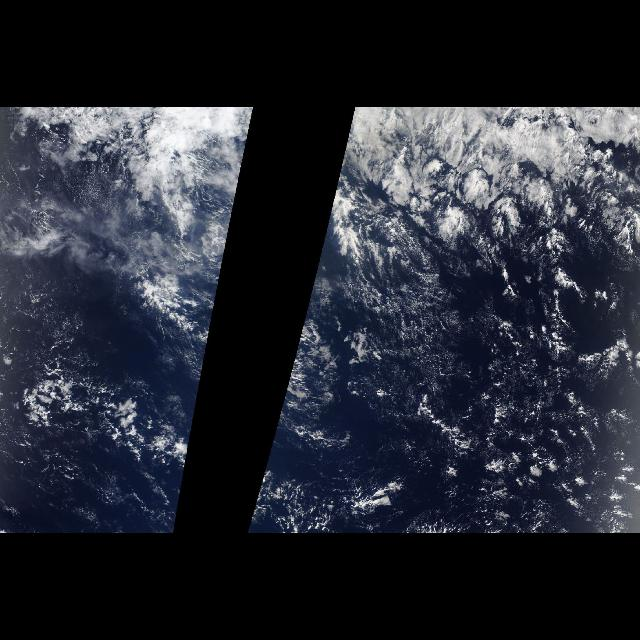Sugar: (336, 284, 604, 420)
